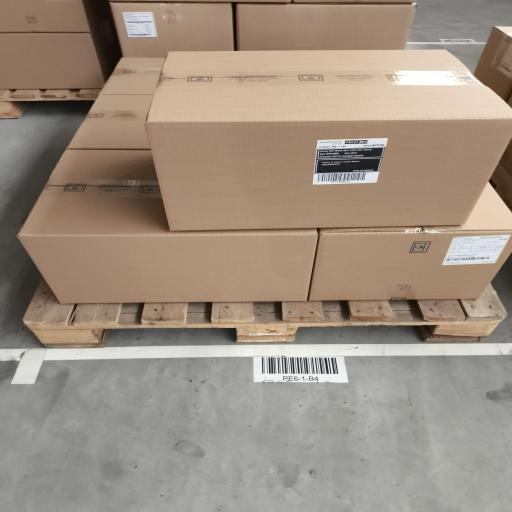pallet: (24, 281, 506, 347), (0, 89, 101, 118)
